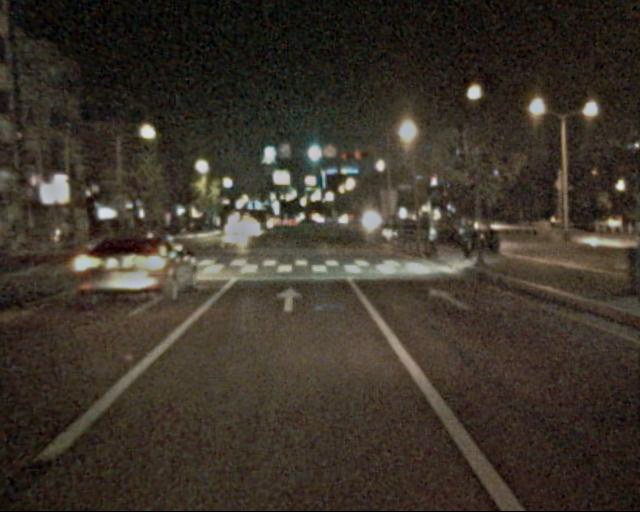person: (457, 218, 477, 269), (425, 218, 445, 265)
